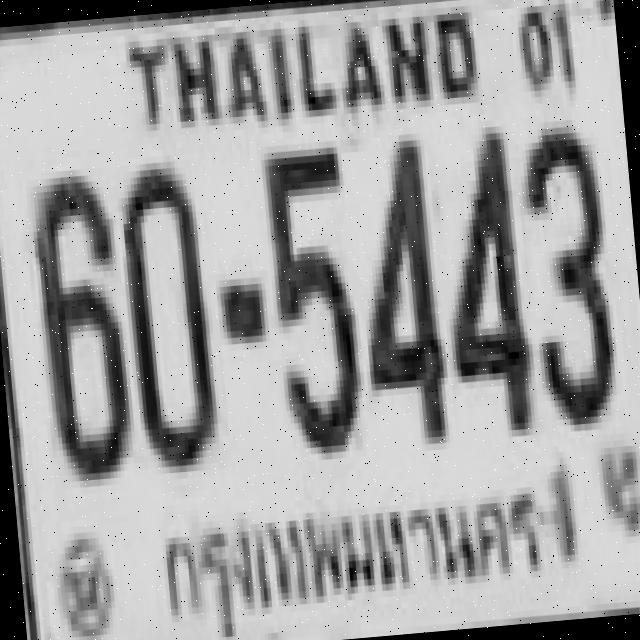0: (115, 159, 218, 469)
3: (518, 118, 616, 421)
4: (346, 132, 449, 442), (432, 122, 532, 431)
5: (260, 140, 362, 450)
6: (24, 166, 130, 476)
Bangkok: (150, 464, 547, 638)
